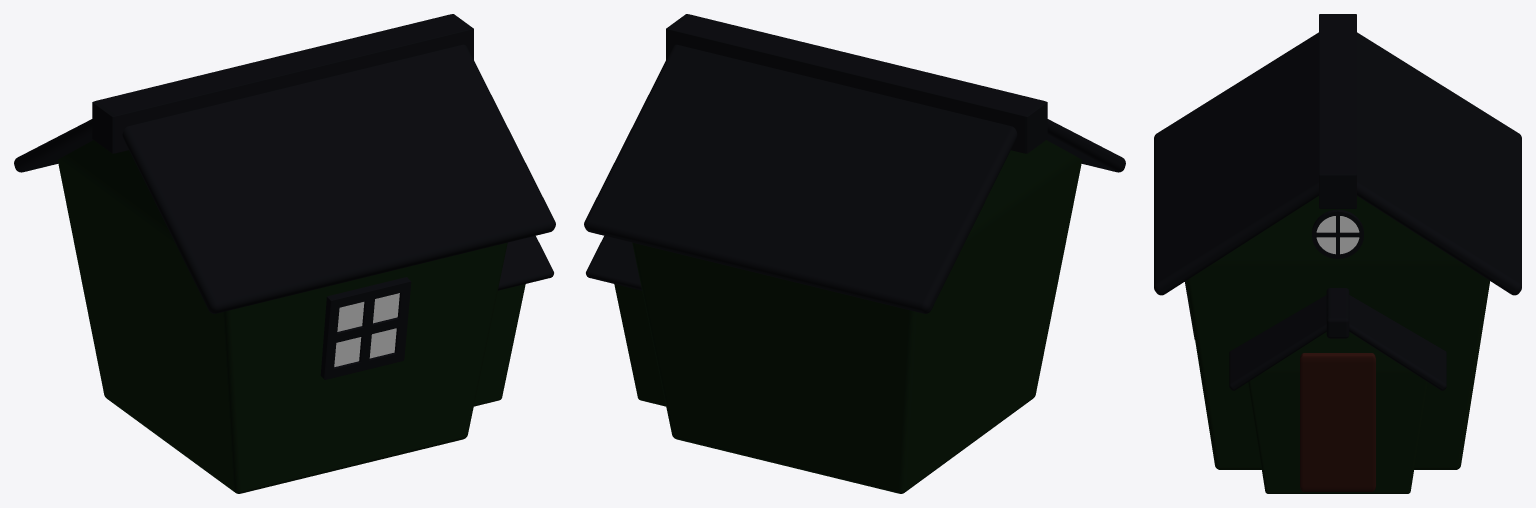
Rendered from house.obj.
3 renders of one model, left to right at view 1: azimuth 30°, elevation 25°; view 2: azimuth 150°, elevation 25°; view 3: azimuth 270°, elevation 25°, orthographic. The views are drawn at different scales.
Visible parts, largest first — view 1: Plane, Cube_Cube.001, Circle_Circle.006, Plane.001_Plane.004; view 2: Plane, Cube_Cube.001; view 3: Plane, Cube_Cube.001, Cube.001_Cube.009, Circle_Circle.006, Circle.001_Circle.008.
Boxes of the visible parts, <box> form: Plane: <box>14,14,555,313</box>; Cube_Cube.001: <box>57,140,525,493</box>; Circle_Circle.006: <box>320,277,411,379</box>; Plane.001_Plane.004: <box>334,293,399,366</box>; Plane: <box>584,14,1125,313</box>; Cube_Cube.001: <box>614,140,1082,493</box>; Plane: <box>1154,14,1521,390</box>; Cube_Cube.001: <box>1186,196,1489,493</box>; Cube.001_Cube.009: <box>1300,353,1375,491</box>; Circle_Circle.006: <box>1185,209,1363,339</box>; Circle.001_Circle.008: <box>1316,216,1359,254</box>.
Size of the model in its own units: 3.43 by 2.92 by 3.01.
